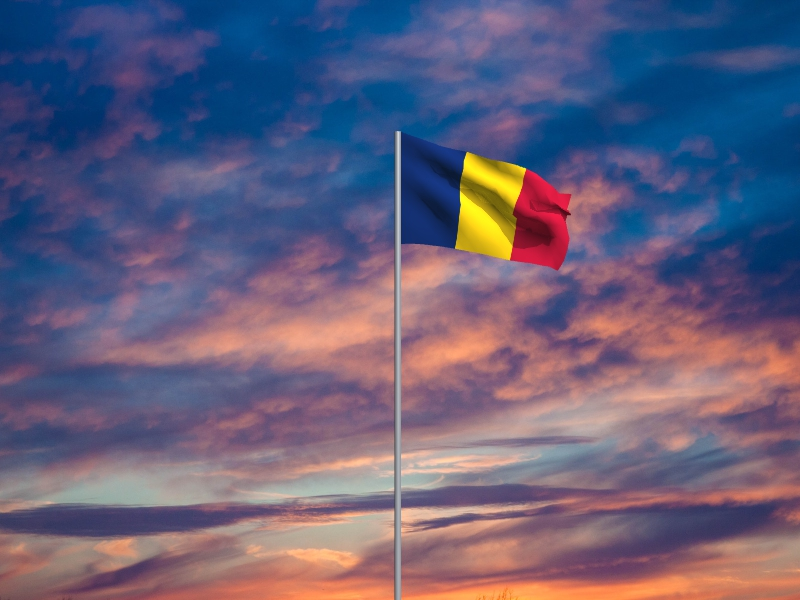td: (402, 135, 572, 273)
